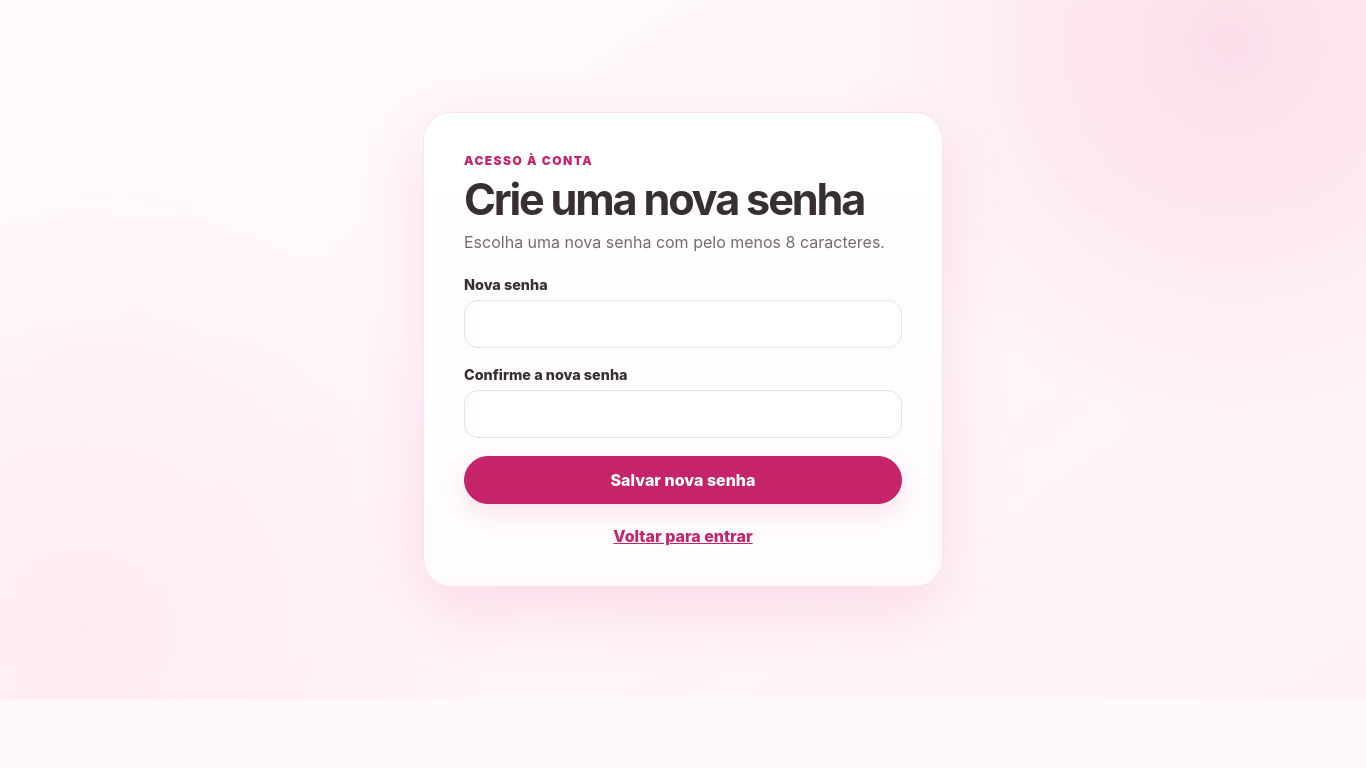
Test case: recuperação de senha › não envia quando as senhas são diferentes
In the password field labelled "Nova senha": (683, 324) [464,300,902,348], type "senha-segura"
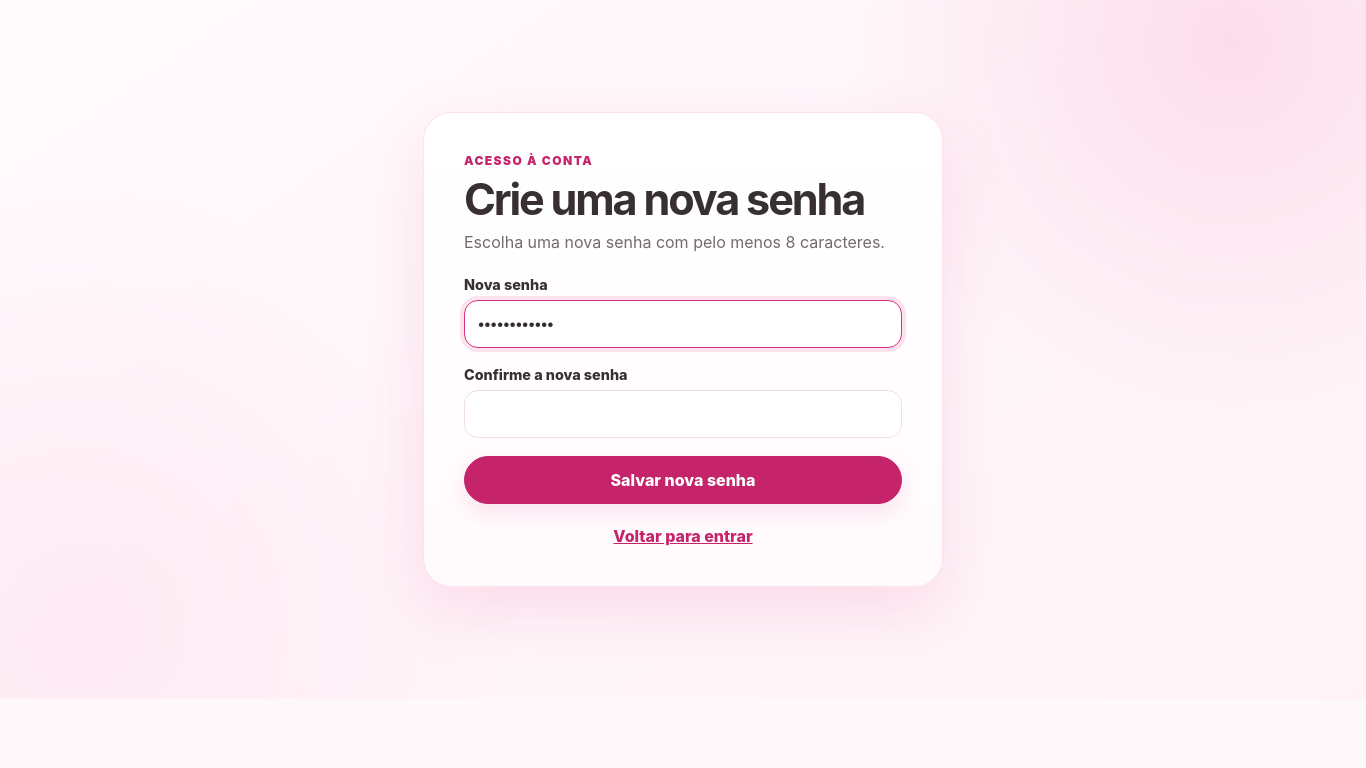
In the password field labelled "Confirme a nova senha": (683, 414) [464,390,902,438], type "senha-diferente"
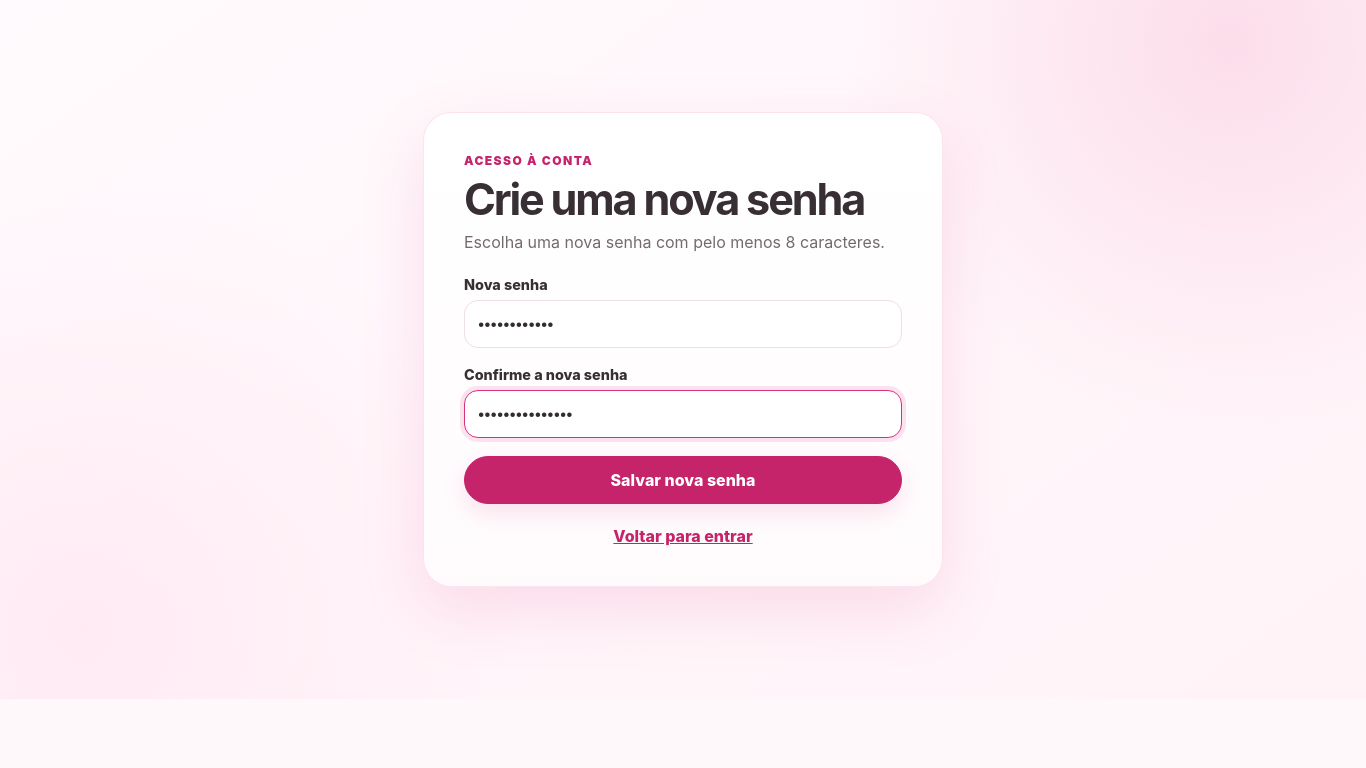
Click the button "Salvar nova senha": (683, 480) [464,456,902,504]
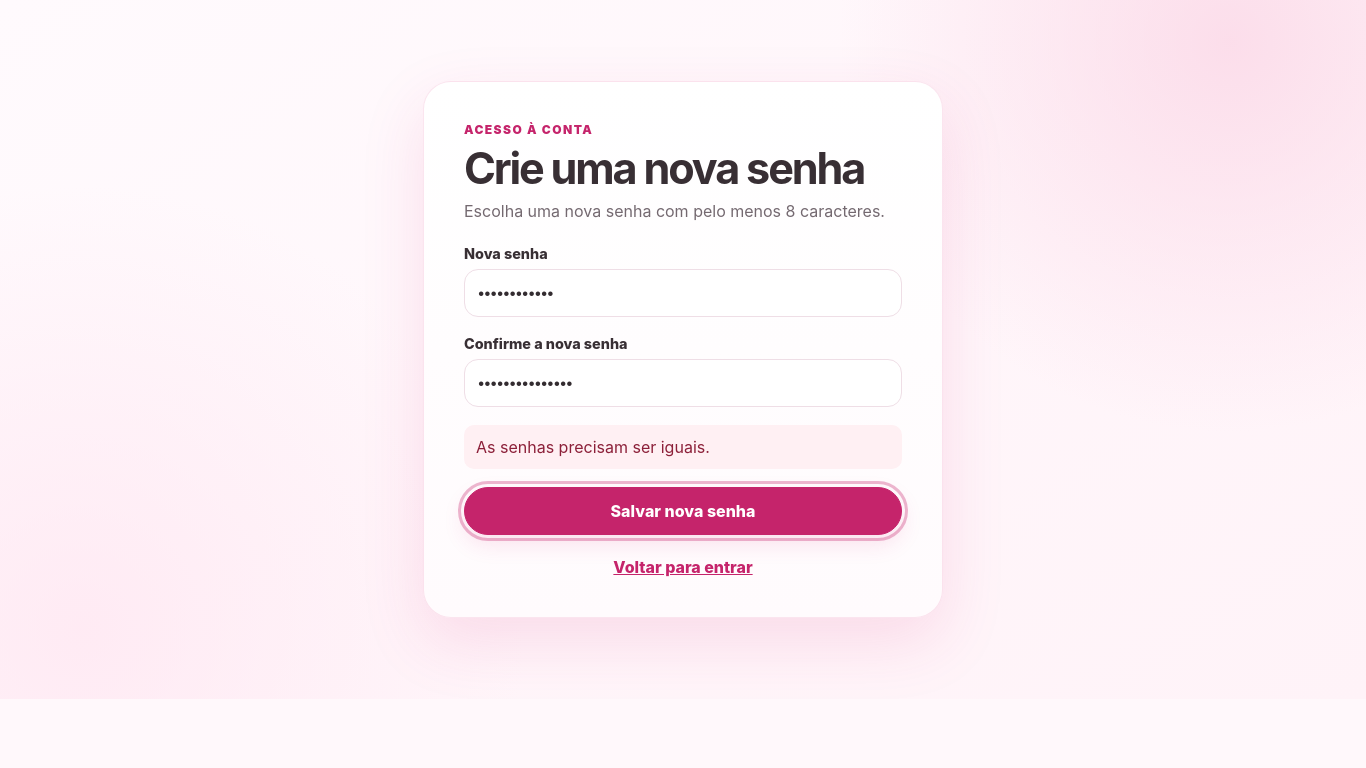
Now the message shows "precisam ser iguais", box [476,437,710,457]
